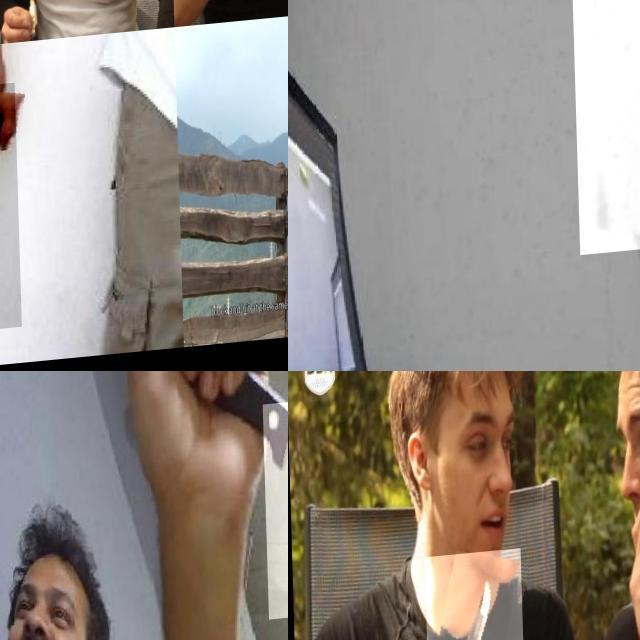-: (569, 0, 640, 261), (0, 86, 52, 338), (423, 552, 523, 640), (206, 0, 255, 50), (0, 0, 21, 53)
